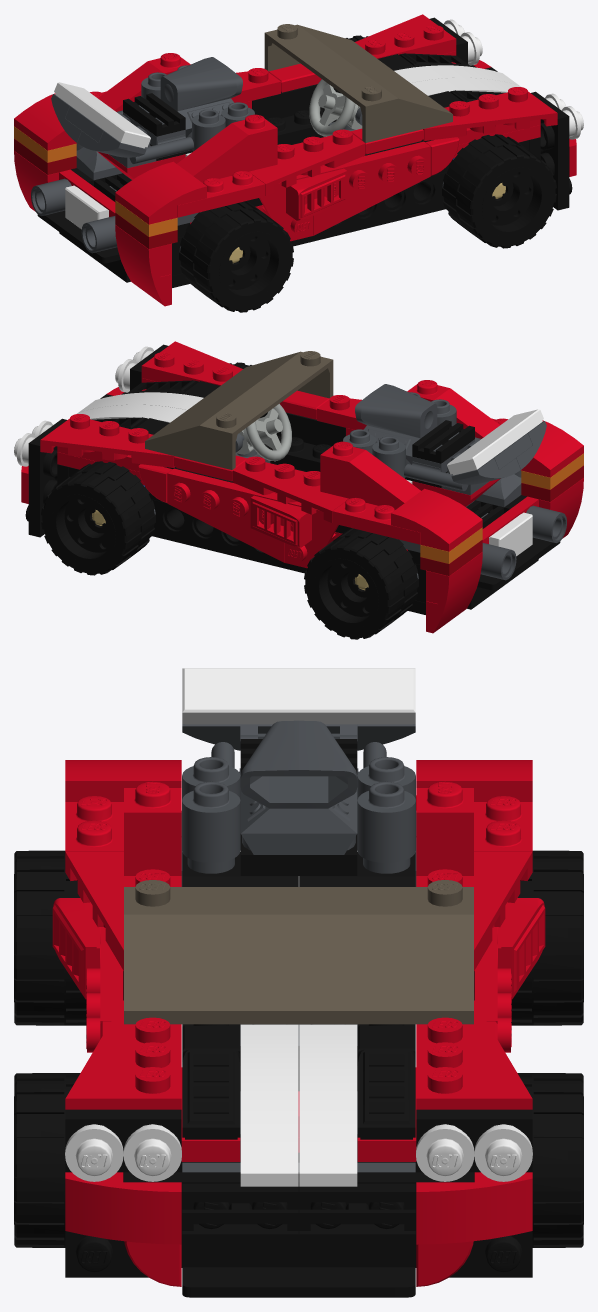
Rendered from SportsCar31100.fbx.
3 renders of one model, top to bottom at view 1: azimuth 30°, elevation 25°; view 2: azimuth 150°, elevation 25°; view 3: azimuth 270°, elevation 25°, orthographic. The views are drawn at different scales.
Visible parts, largest first — view 1: part.113, part.124, part.122, part.119, part.077, part.064, part.085, part.070, part.067, part, part.121, part.123 (+45 smaller); view 2: part.113, part.126, part.128, part.115, part.078, part.065, part.085, part.073, part.066, part.005, part.127, part.125 (+45 smaller); view 3: part.113, part.085, part.086, part.107, part.108, part.109, part.122, part.128, part.124, part.126, part.064, part.065 (+43 smaller).
Part boxes in pixels (x1,y1,x2,y2): part.113: (264, 24, 452, 142); part.124: (442, 134, 556, 248); part.122: (179, 201, 293, 312); part.119: (313, 141, 430, 235); part.077: (177, 114, 277, 182); part.064: (422, 87, 557, 140); part.085: (160, 57, 242, 138); part.070: (115, 161, 206, 224); part.067: (249, 129, 365, 195); part: (172, 172, 446, 275); part.121: (219, 231, 283, 300); part.123: (482, 167, 546, 236); part.113: (145, 351, 333, 469); part.126: (41, 461, 155, 575); part.128: (304, 528, 418, 639); part.115: (167, 468, 284, 562); part.078: (320, 441, 420, 509); part.065: (40, 414, 175, 467); part.085: (355, 384, 437, 465); part.073: (391, 488, 482, 551); part.066: (232, 456, 348, 522); part.005: (151, 499, 425, 602); part.127: (314, 558, 378, 627); part.125: (51, 494, 115, 563); part.113: (124, 880, 473, 1024); part.085: (240, 720, 357, 854); part.086: (182, 668, 415, 724); part.107: (182, 1235, 415, 1297); part.108: (240, 1024, 298, 1186); part.109: (299, 1024, 357, 1186); part.122: (14, 850, 86, 1025); part.128: (511, 850, 583, 1025); part.124: (14, 1073, 80, 1247); part.126: (517, 1073, 583, 1247); part.064: (65, 1000, 181, 1109); part.065: (416, 1000, 532, 1109).
Bounding box in the file's own units: 12634 × 4482 × 7800.
